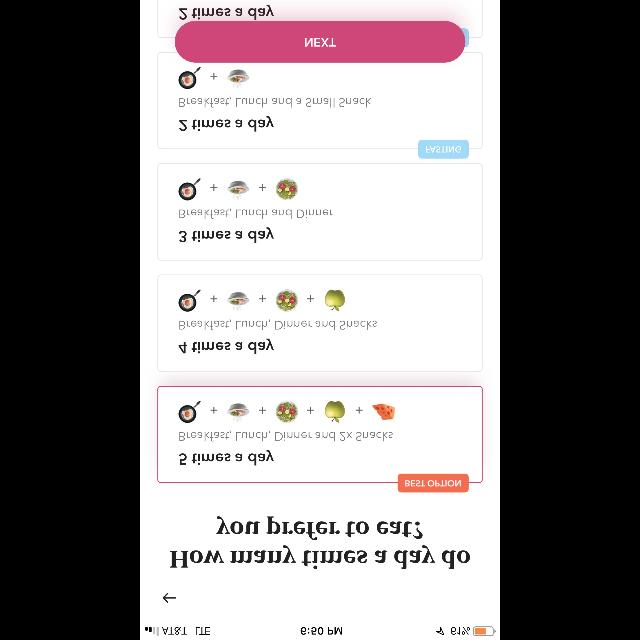icon: (164, 593, 176, 603), (210, 406, 218, 414), (210, 184, 218, 192), (210, 72, 218, 80), (260, 406, 266, 414), (308, 406, 314, 414), (356, 406, 362, 414), (210, 296, 218, 302), (306, 296, 314, 302), (260, 184, 266, 192), (260, 296, 266, 302)
image: (178, 401, 202, 424), (178, 289, 202, 311), (178, 178, 202, 200), (179, 66, 201, 90), (276, 400, 298, 422), (276, 289, 298, 311), (276, 178, 298, 200), (325, 401, 345, 423), (325, 289, 345, 311), (228, 180, 250, 200), (228, 403, 250, 422), (228, 292, 250, 310), (228, 70, 250, 88), (372, 403, 396, 419)
text: (170, 516, 470, 568), (180, 431, 392, 442), (180, 96, 370, 108), (180, 320, 376, 330), (180, 208, 334, 218), (178, 338, 274, 354), (178, 227, 274, 243), (180, 449, 274, 465), (180, 116, 274, 132), (180, 4, 274, 20)
textbutton: (175, 21, 465, 63), (398, 473, 468, 492), (419, 140, 469, 158)
uppertaskbar: (140, 626, 500, 640)
